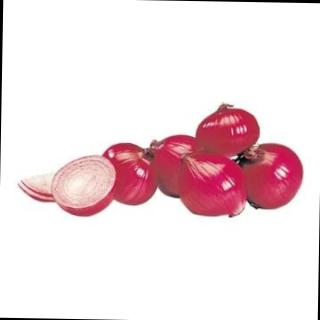Bawang Merah: (16, 97, 309, 224)
